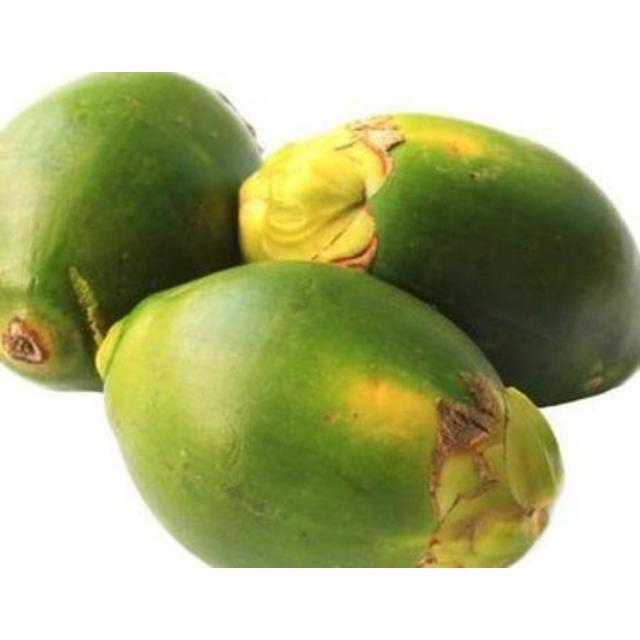good: (97, 261, 560, 567), (259, 113, 639, 409), (0, 72, 262, 395)
